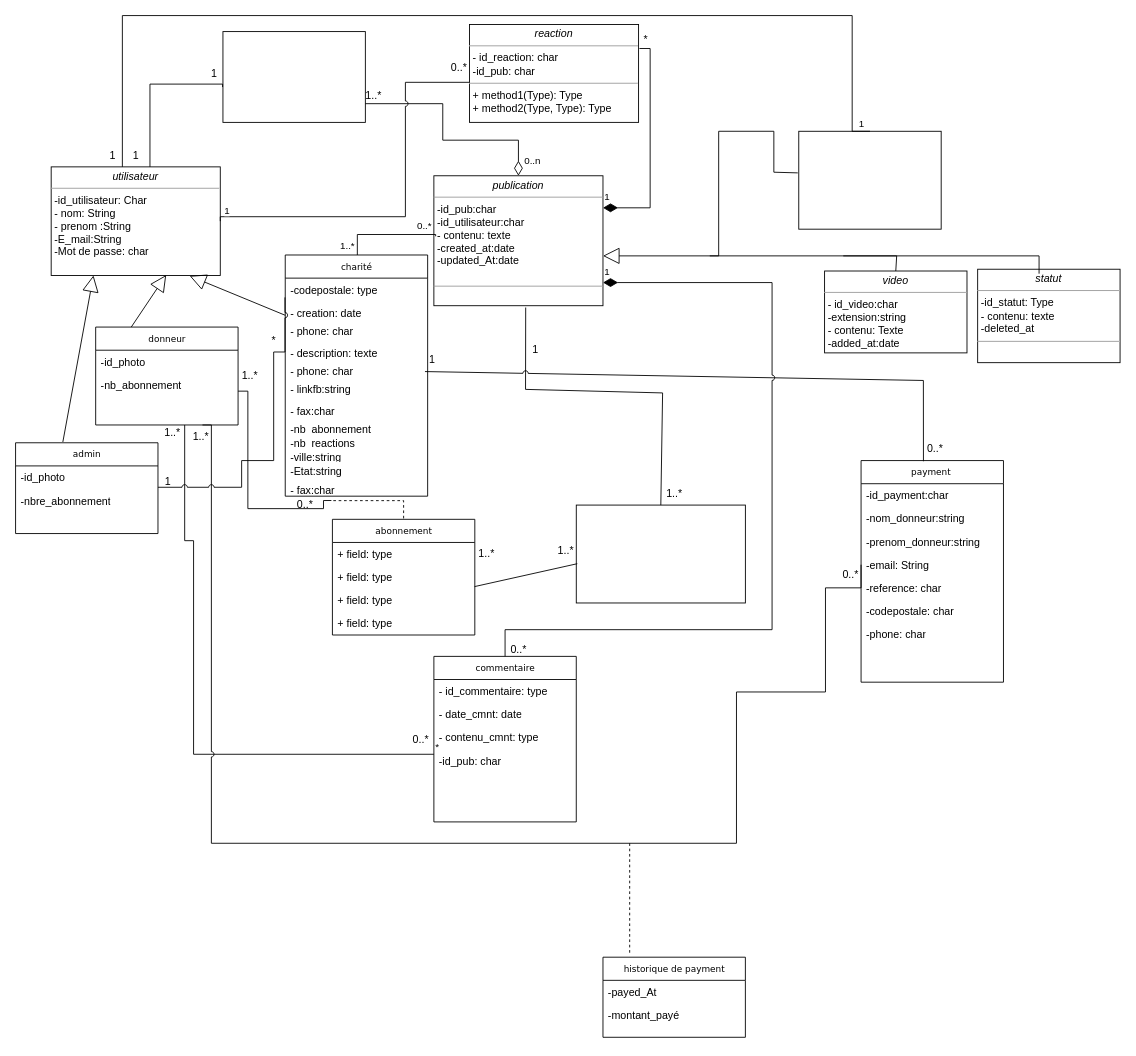
The diagram is 1136 pixels wide and 1056 high, and some of its shapes have lost their labels. Here are the shapes that lost their labels. From the top down, the centre of each, then its label:
pixel 293 76: file d'actualité -id_utilisateur:Char -idpub:char
pixel 869 179: photo - id_photo: char -extension:string -path:string -added_At -deleted_At
pixel 660 553: notification -id_notif: Char -id_photo:char -contenu:char
